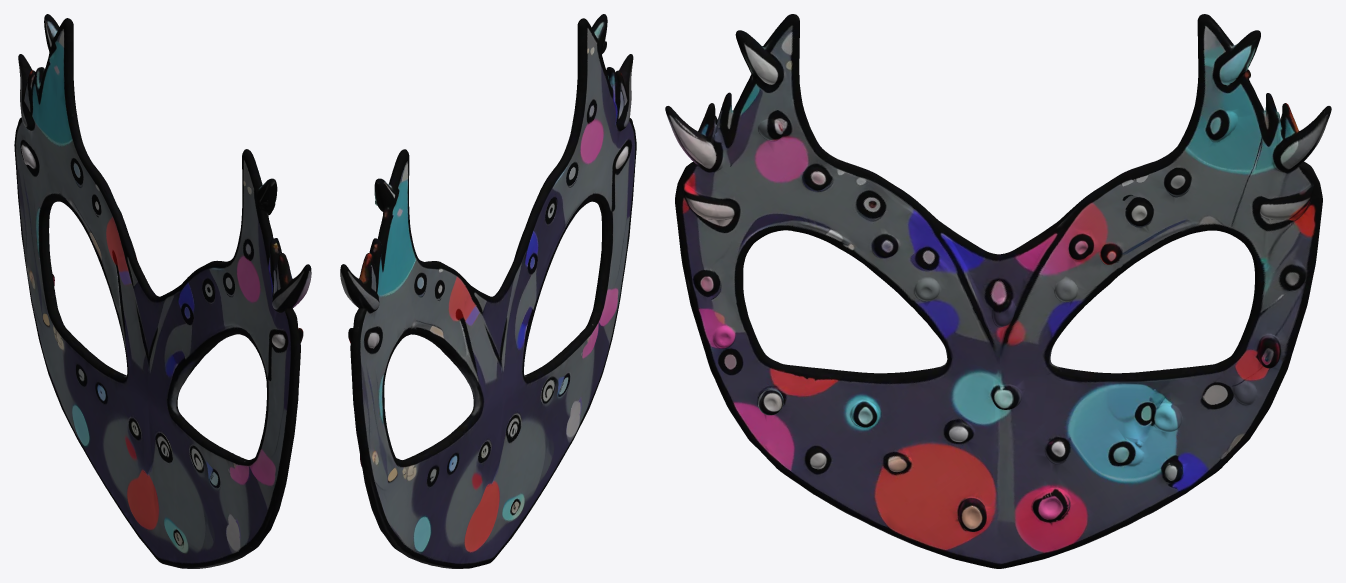
The model's file is 11_016_Mask_Polkadot.glb.
3 views of the same model, side by side, from view 1: azimuth 30°, elevation 25°; view 2: azimuth 150°, elevation 25°; view 3: azimuth 270°, elevation 25° (orthographic). The views are drawn at different scales.
Visible parts, largest first — view 1: tripo_node_ef7df29c-f662-4ef5-b7a8-6e6f71ee2c03; view 2: tripo_node_ef7df29c-f662-4ef5-b7a8-6e6f71ee2c03; view 3: tripo_node_ef7df29c-f662-4ef5-b7a8-6e6f71ee2c03.
Boxes of the visible parts, box(x1,y1,x2,y2) form: tripo_node_ef7df29c-f662-4ef5-b7a8-6e6f71ee2c03: box(14, 14, 311, 568); tripo_node_ef7df29c-f662-4ef5-b7a8-6e6f71ee2c03: box(340, 14, 636, 568); tripo_node_ef7df29c-f662-4ef5-b7a8-6e6f71ee2c03: box(665, 14, 1331, 568).
Size of the model in its own units: 0.0505 by 0.9139 by 0.9999.
1 material, 1 textured.
